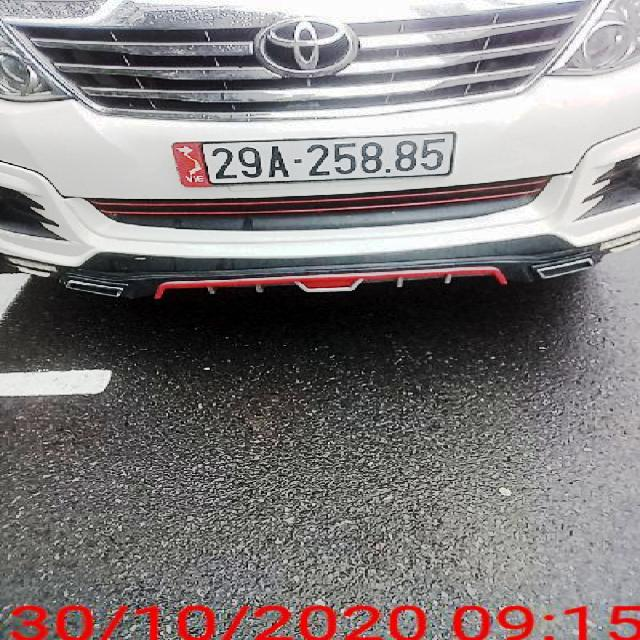license_plate: (177, 132, 456, 188)
